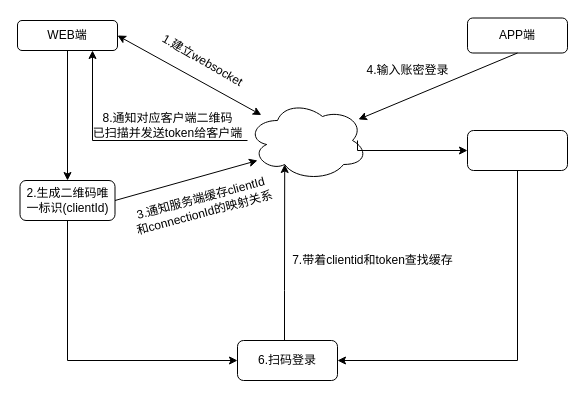
Image size: 585x398. Some labels were removed from this diagram. Each missing label, with the centre of its shape:
"5.生成token" goes at (517,150).
"服务端" goes at (307,140).
